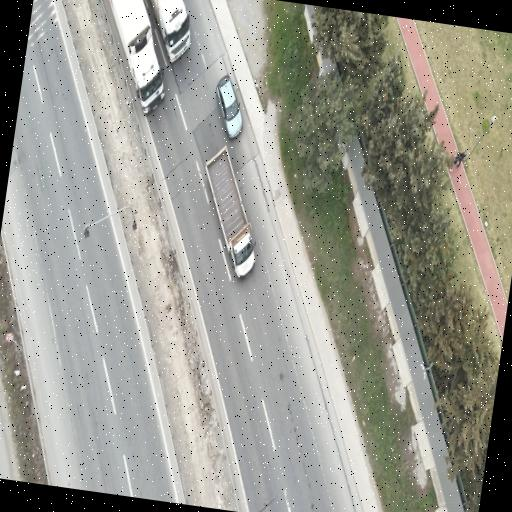car: (216, 75, 241, 138)
person: (449, 150, 466, 171)
truck: (205, 146, 254, 277), (108, 0, 163, 113), (150, 0, 189, 62)
